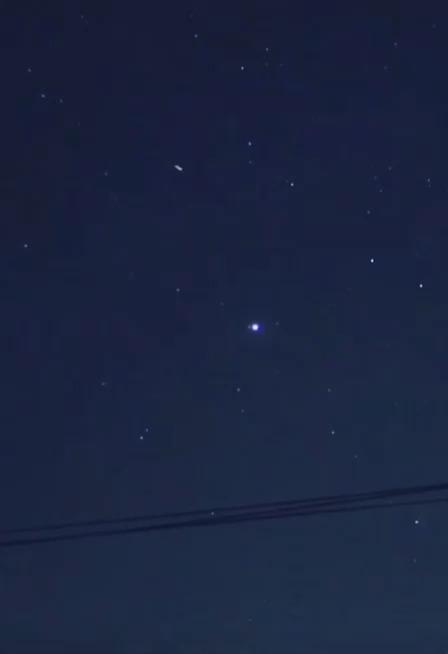meteorite: (166, 155, 191, 180)
